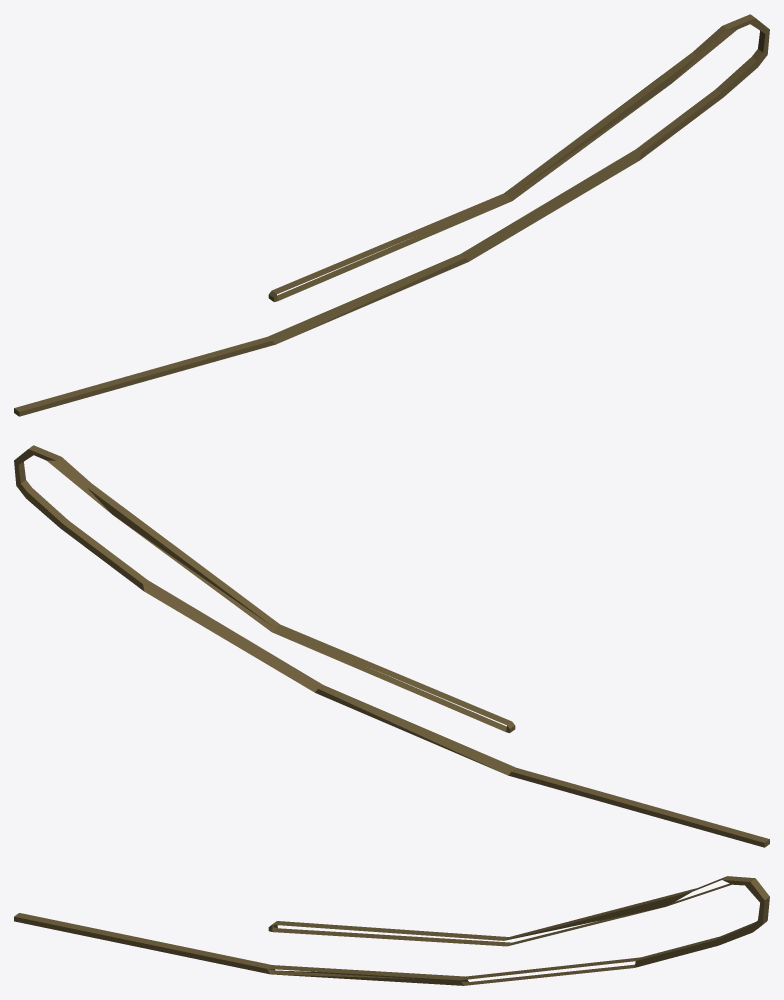
The model's file is chart_obstacle_004.obj.
3 renders of one model, top to bottom at view 1: azimuth 30°, elevation 25°; view 2: azimuth 150°, elevation 25°; view 3: azimuth 330°, elevation 25°, orthographic.
Visible parts, largest first — view 1: chart_obstacle_004; view 2: chart_obstacle_004; view 3: chart_obstacle_004.
Boxes of the visible parts, x1,y1,x2,y2 form: chart_obstacle_004: (14,14,769,416); chart_obstacle_004: (14,445,769,847); chart_obstacle_004: (14,876,769,985).
Size of the model in its own units: 660 by 184 by 8.
